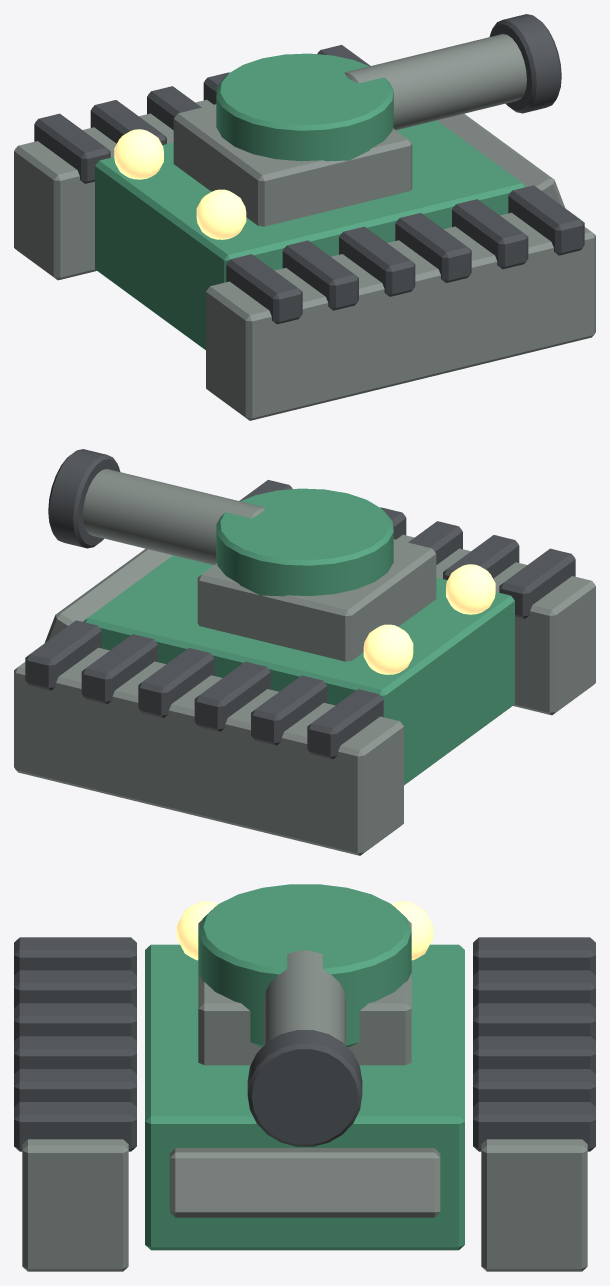
File: enemy_heavy.glb
The picture shows the model from 3 angles, top to bottom: view 1: azimuth 30°, elevation 25°; view 2: azimuth 150°, elevation 25°; view 3: azimuth 270°, elevation 25°; orthographic projection. The views are drawn at different scales.
Parts seen in each view (by area): view 1: Cube.001, Cube, Cylinder, Cube.015, Cube.008, Cylinder.001, Cylinder.002, Cube.004, Cube.006, Cube.007, Cube.002, Cube.005 (+7 smaller); view 2: Cube.008, Cube, Cylinder, Cube.015, Cube.001, Cylinder.001, Cylinder.002, Cube.011, Cube.013, Cube.014, Cube.009, Cube.012 (+7 smaller); view 3: Cube, Cylinder, Cube.016, Cube.001, Cube.008, Cylinder.002, Cube.015, Cylinder.001, Cube.007, Cube.014, Cube.002, Cube.009 (+10 smaller).
Boxes of the visible parts, <box> form: Cube.001: <box>206,212,595,420</box>; Cube: <box>95,120,526,350</box>; Cylinder: <box>216,53,393,161</box>; Cube.015: <box>173,104,412,226</box>; Cube.008: <box>14,99,213,280</box>; Cylinder.001: <box>344,34,526,130</box>; Cylinder.002: <box>489,14,561,113</box>; Cube.004: <box>339,226,415,296</box>; Cube.006: <box>452,199,528,269</box>; Cube.007: <box>508,185,584,255</box>; Cube.002: <box>226,254,302,324</box>; Cube.005: <box>395,213,471,282</box>; Cube.008: <box>14,647,403,855</box>; Cube: <box>83,555,514,785</box>; Cylinder: <box>216,488,393,596</box>; Cube.015: <box>197,539,436,661</box>; Cube.001: <box>396,534,595,715</box>; Cylinder.001: <box>83,469,265,565</box>; Cylinder.002: <box>48,449,120,548</box>; Cube.011: <box>194,661,270,731</box>; Cube.013: <box>81,634,157,704</box>; Cube.014: <box>25,620,101,690</box>; Cube.009: <box>307,689,383,759</box>; Cube.012: <box>138,648,214,717</box>; Cube: <box>145,944,464,1250</box>; Cylinder: <box>198,884,411,1047</box>; Cube.016: <box>169,1148,440,1217</box>; Cube.001: <box>22,1139,128,1271</box>; Cube.008: <box>481,1139,587,1271</box>; Cylinder.002: <box>247,1030,362,1146</box>; Cube.015: <box>198,920,411,1065</box>; Cylinder.001: <box>264,950,345,1045</box>; Cube.007: <box>14,1102,136,1151</box>; Cube.014: <box>473,1102,595,1151</box>; Cube.002: <box>14,937,136,974</box>; Cube.009: <box>473,937,595,974</box>.
Size of the model in its own units: 1.38 by 0.7086 by 1.42.
